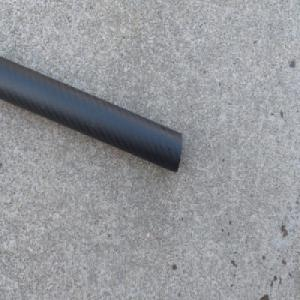LuggagePart: (0, 48, 183, 174)
